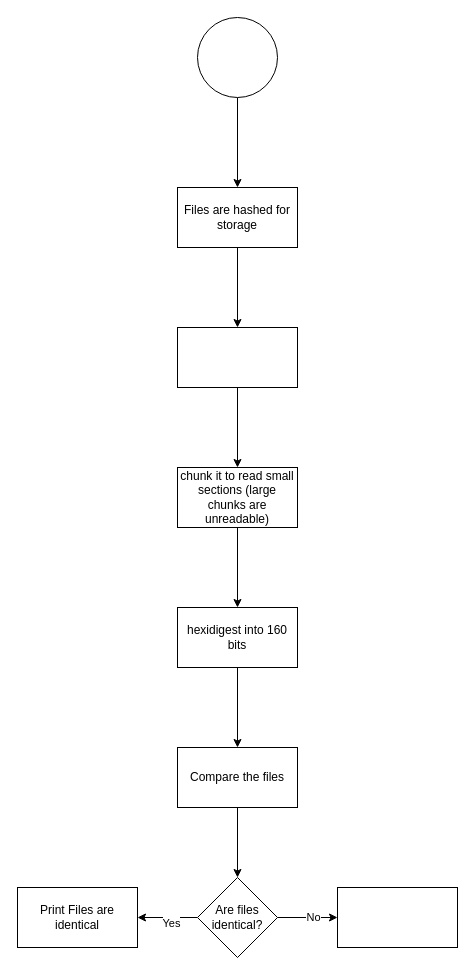
The diagram is 475 pixels wide and 975 high, and some of its shapes have lost their labels. The centre of each missing label's shape, as x and y in pixels:
"Files added to the directory" belongs at (237,57).
"Print Files are not identical" belongs at (397,917).
"Read the size of the file" belongs at (237,357).
